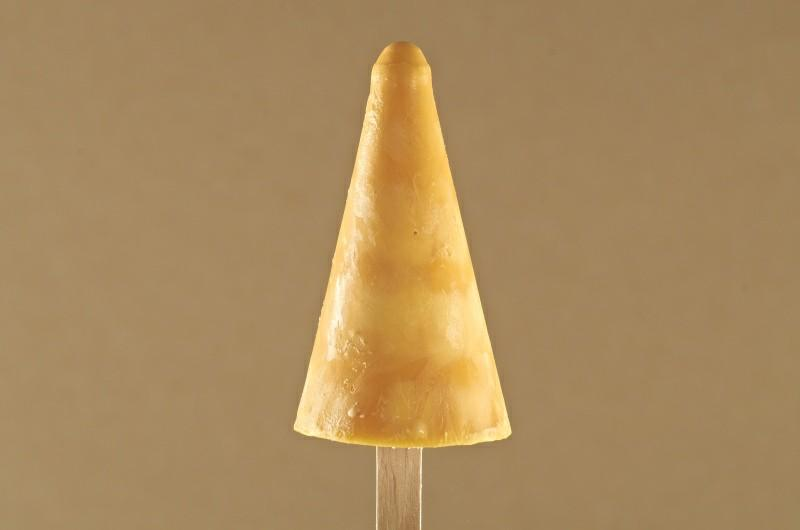Kulfi: (292, 37, 514, 452)
